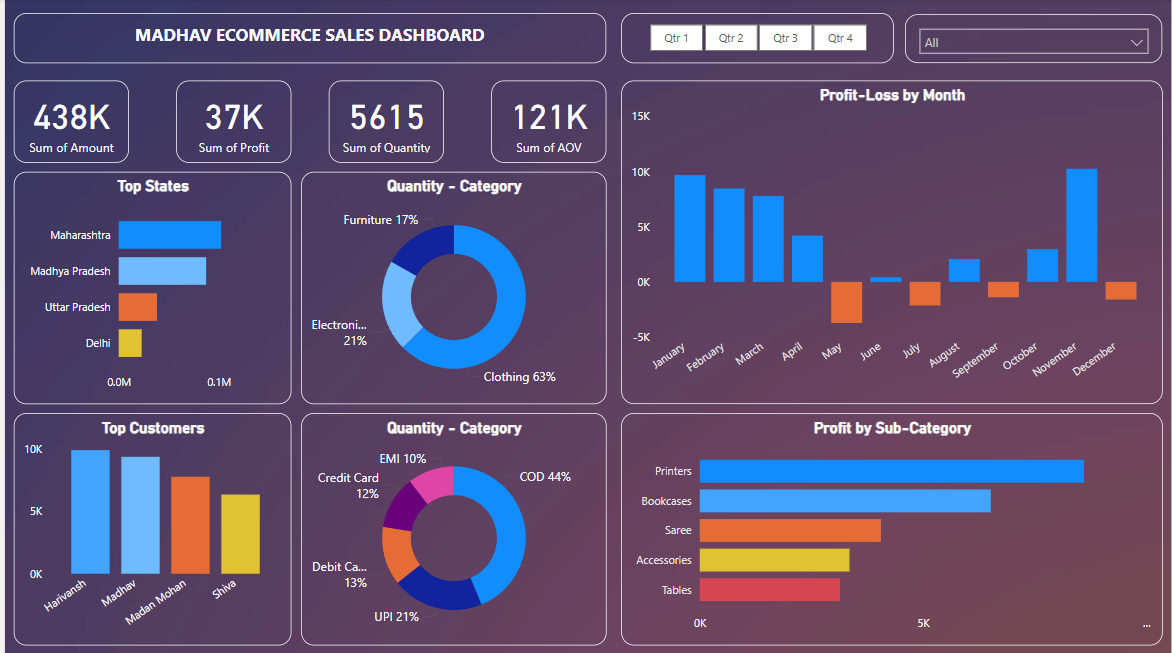

What the dashboard file says about the page in this screenshot:
{"tool":"powerbi","page":{"name":"Page 1","canvas":[1280,720],"ordinal":0},"visuals":[{"type":"textbox","box":[9.6,16.5,650.4,54.9],"z":0},{"type":"columnChart","title":"Profit-Loss by Month","fields":{"Category":["Orders.Order Date.Variation.Date Hierarchy.Month"],"Y":["Details.Profit"]},"box":[676.5,90.6,594.2,355.4],"z":1000},{"type":"barChart","title":"Profit by Sub-Category","fields":{"Category":["Details.Sub-Category"],"Y":["Details.Profit"]},"box":[676.5,455.6,594.2,255.2],"z":2000},{"type":"donutChart","title":" Quantity - Category","fields":{"Category":["Details.PaymentMode"],"Y":["Details.Quantity"]},"box":[325.2,455.6,334.8,255.2],"z":3000},{"type":"donutChart","title":"Quantity - Category","fields":{"Category":["Details.Category"],"Y":["Details.Quantity"]},"box":[325.2,190.7,334.8,255.2],"z":4000},{"type":"columnChart","title":"Top Customers","fields":{"Category":["Orders.CustomerName"],"Y":["Details.Amount"]},"box":[9.6,455.6,304.6,255.2],"z":5000},{"type":"clusteredBarChart","title":"Top States","fields":{"Category":["Orders.State"],"Y":["Details.Amount"]},"box":[9.6,190.7,304.6,255.2],"z":6000},{"type":"card","fields":{"Values":["Details.Amount"]},"box":[9.6,90.6,126.2,90.6],"z":7000},{"type":"card","fields":{"Values":["Details.Profit"]},"box":[188,90.6,126.2,90.6],"z":8000},{"type":"card","fields":{"Values":["Details.Quantity"]},"box":[355.4,90.6,126.2,90.6],"z":9000},{"type":"card","fields":{"Values":["Details.AOV"]},"box":[533.8,90.6,126.2,90.6],"z":10000},{"type":"slicer","fields":{"Values":["Orders.Order Date.Variation.Date Hierarchy.Quarter"]},"box":[676.5,16.5,299.1,54.9],"z":11000},{"type":"slicer","fields":{"Values":["Orders.State"]},"box":[988,17.8,282.7,53.5],"z":12000}]}

Visuals, with their boxes in screenshot pixels (x1, y1, x2, y2), scaled from the page's 1280x720 canvas onto the 1172x653 screenshot:
textbox: (9,15,604,65)
"Profit-Loss by Month" columnChart: (619,82,1163,404)
"Profit by Sub-Category" barChart: (619,413,1163,645)
" Quantity - Category" donutChart: (298,413,604,645)
"Quantity - Category" donutChart: (298,173,604,404)
"Top Customers" columnChart: (9,413,288,645)
"Top States" clusteredBarChart: (9,173,288,404)
card - Details.Amount: (9,82,124,164)
card - Details.Profit: (172,82,288,164)
card - Details.Quantity: (325,82,441,164)
card - Details.AOV: (489,82,604,164)
slicer - Orders.Order Date.Variation.Date Hierarchy.Quarter: (619,15,893,65)
slicer - Orders.State: (905,16,1163,65)
